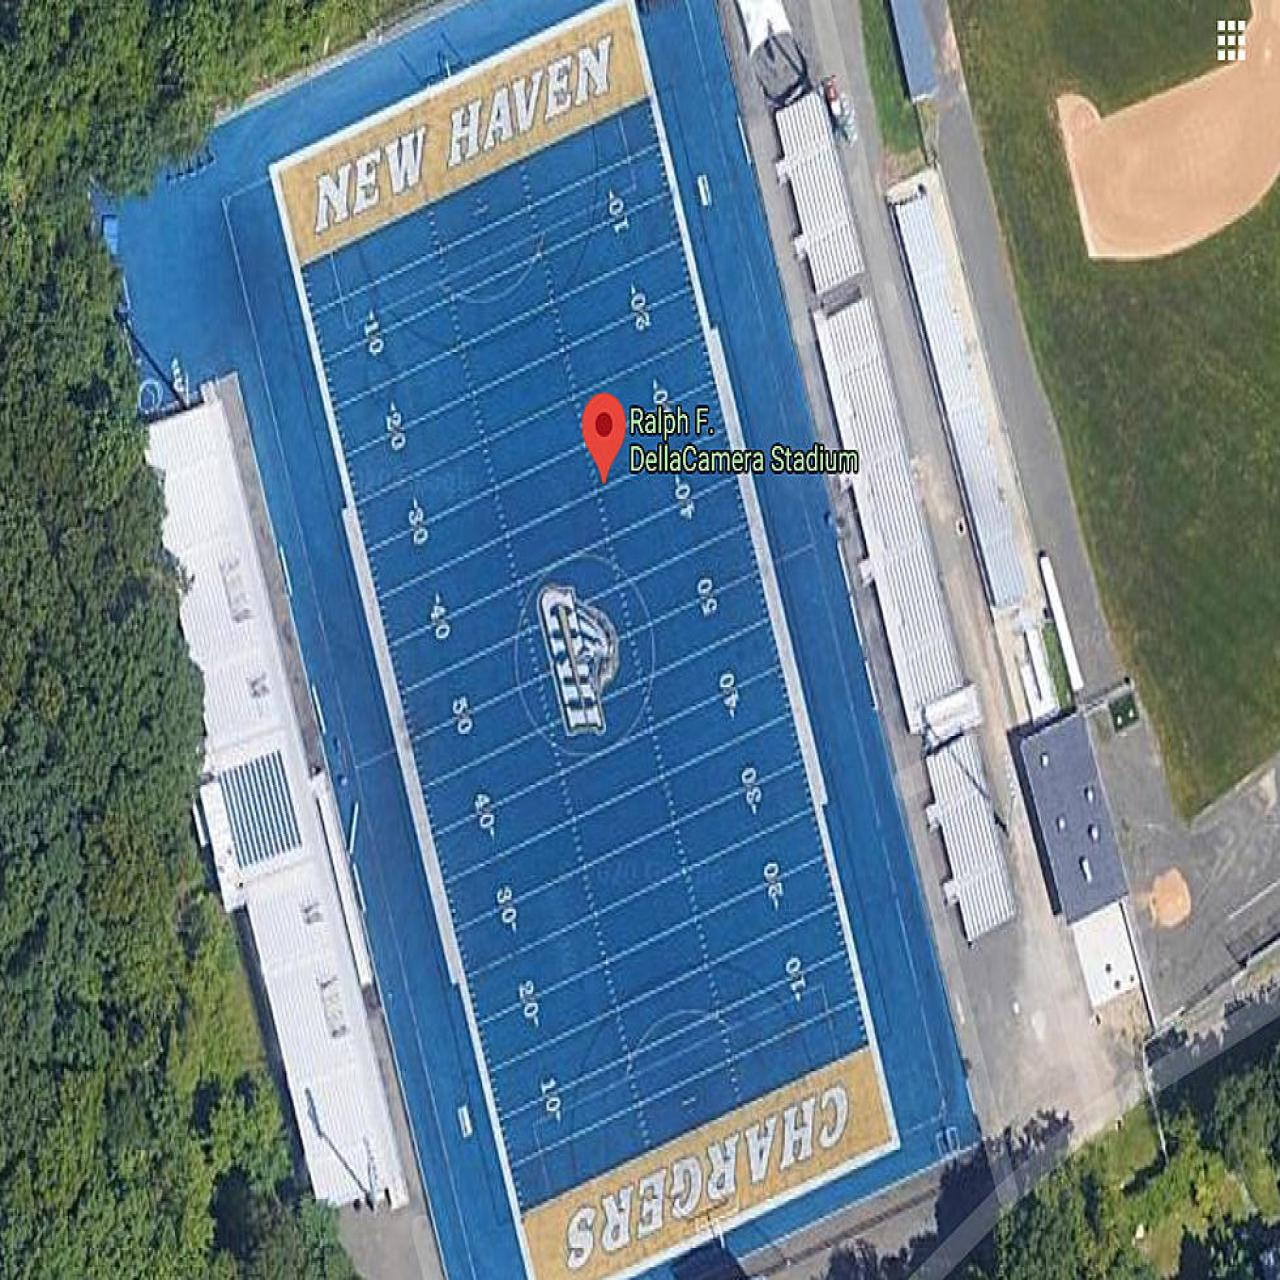10L: (363, 311, 384, 358), (608, 189, 629, 233)
10R: (539, 1076, 561, 1123), (785, 956, 806, 1001)
20L: (384, 401, 406, 452), (629, 285, 651, 332)
20R: (762, 859, 784, 910), (518, 978, 540, 1027)
30L: (408, 497, 429, 546)
30R: (741, 765, 763, 816), (496, 886, 518, 935)
40L: (429, 588, 451, 640), (674, 474, 696, 520)
40R: (719, 670, 740, 720), (474, 791, 495, 840)
50: (452, 694, 474, 735), (697, 577, 719, 617)
